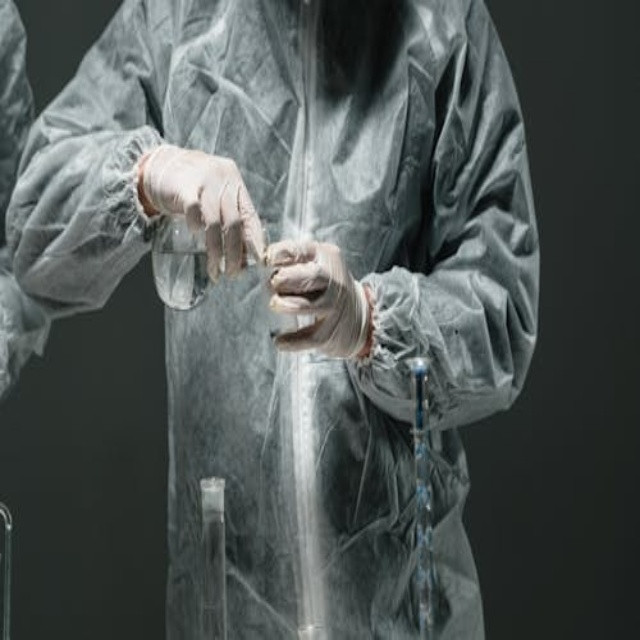Guantes: (137, 143, 266, 285), (264, 239, 372, 361)
